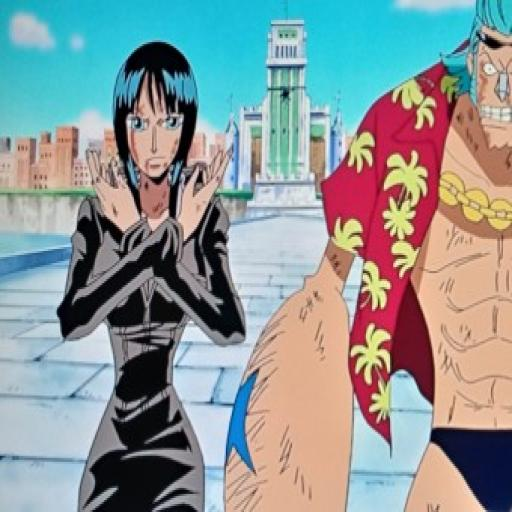NicoRobin: (100, 38, 204, 212)
